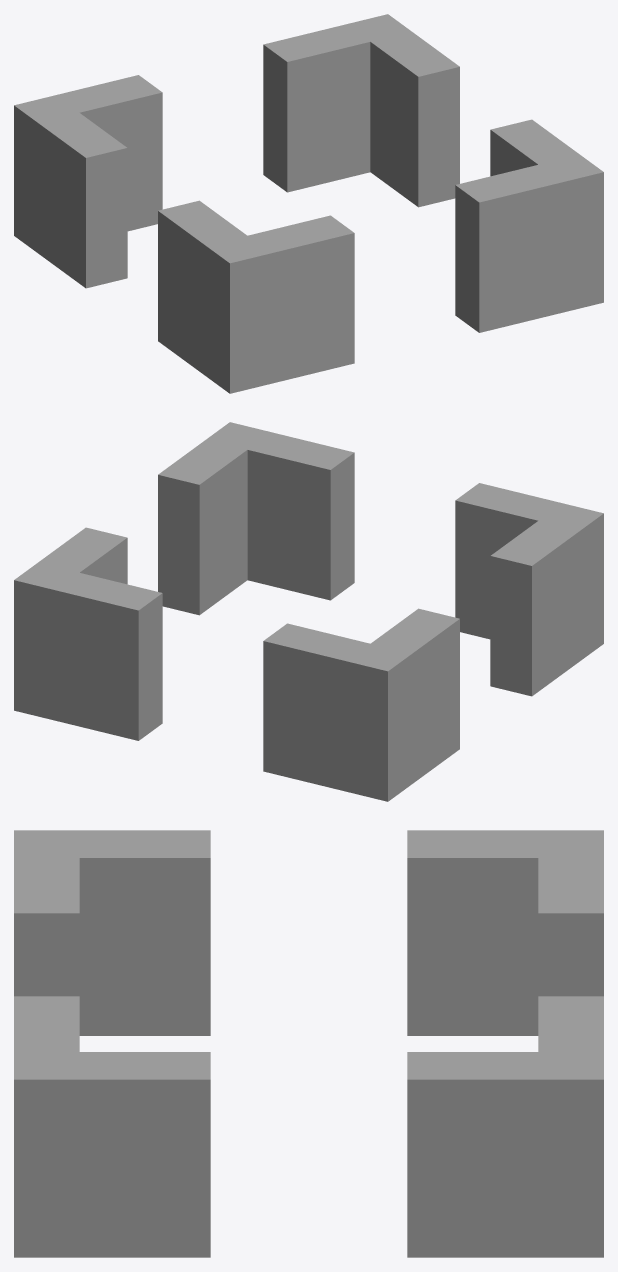
File: 4walls.obj
3 renders of one model, top to bottom at view 1: azimuth 30°, elevation 25°; view 2: azimuth 150°, elevation 25°; view 3: azimuth 270°, elevation 25°, orthographic. The views are drawn at different scales.
Bounding box in the file's own units: 0.9 × 0.3 × 0.9.
Materials: 1 (1 with a texture image).
